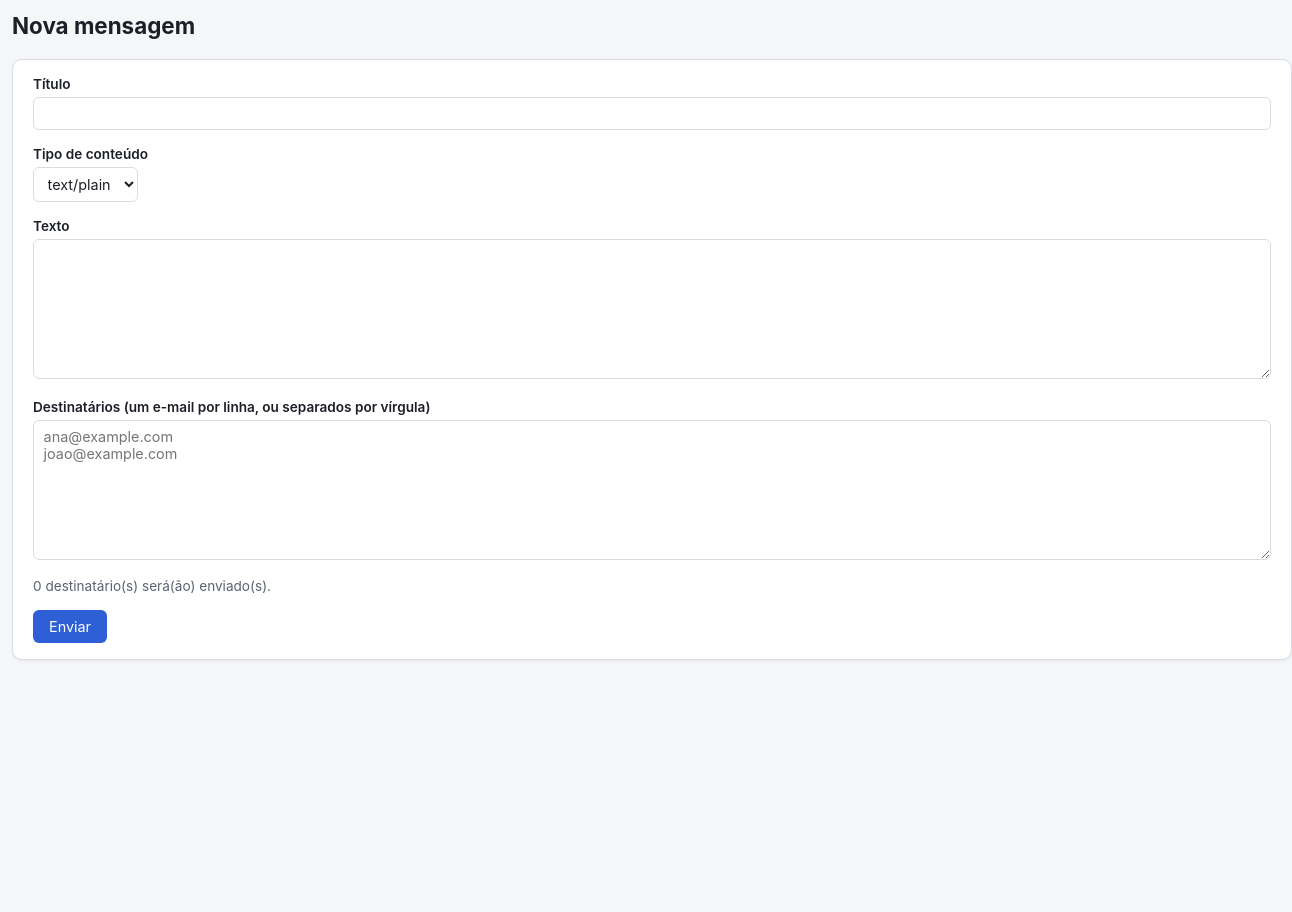
Test: Compose page › shows error banner and preserves form on API failure
The image size is (1292, 912).
Type "Test" into the field labelled "Título" at coordinates (652, 114), box x1=33 y1=97 x2=1271 y2=130
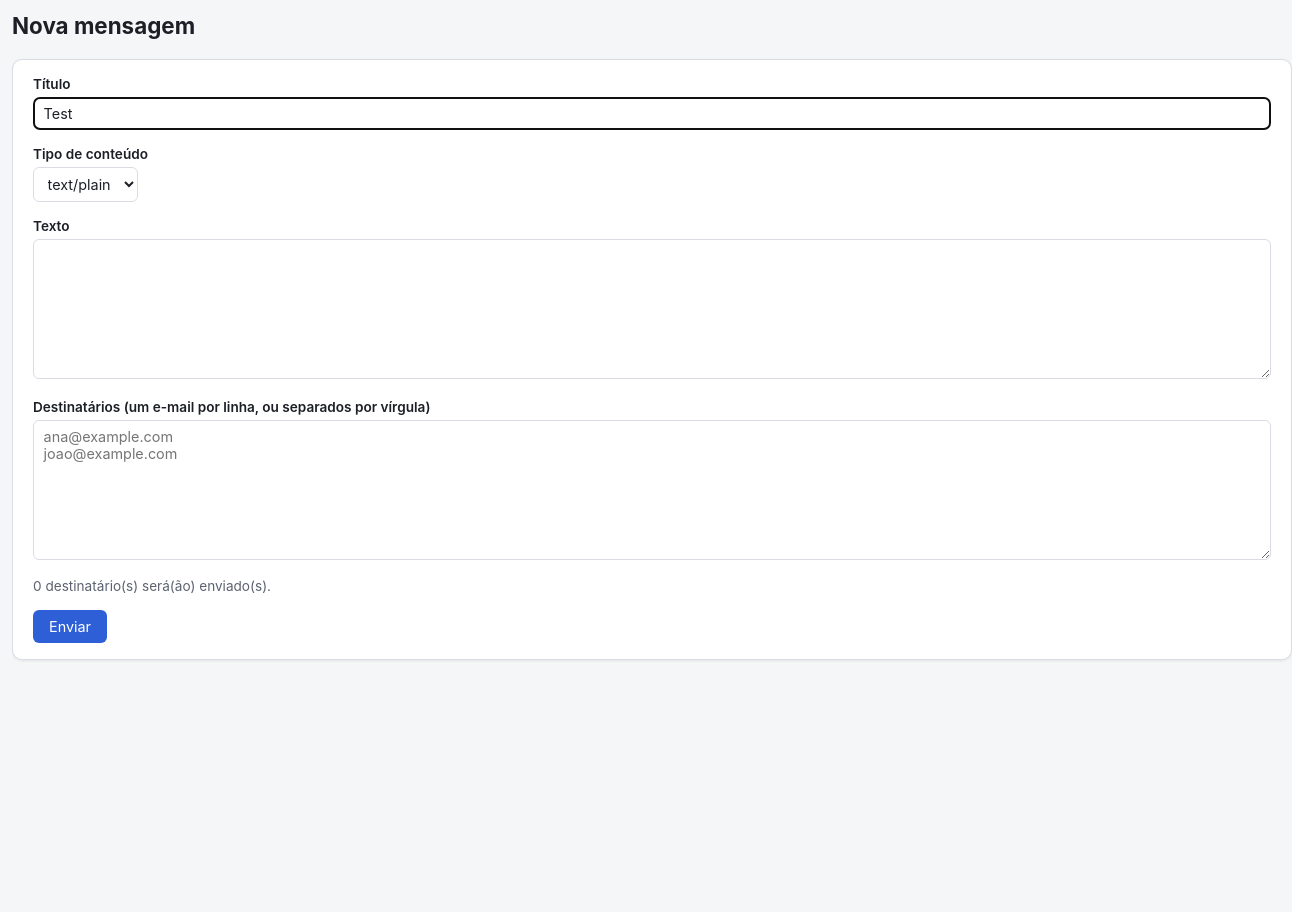
Type "Body" into the text box labelled "Texto" at coordinates (652, 309), box x1=33 y1=239 x2=1271 y2=379
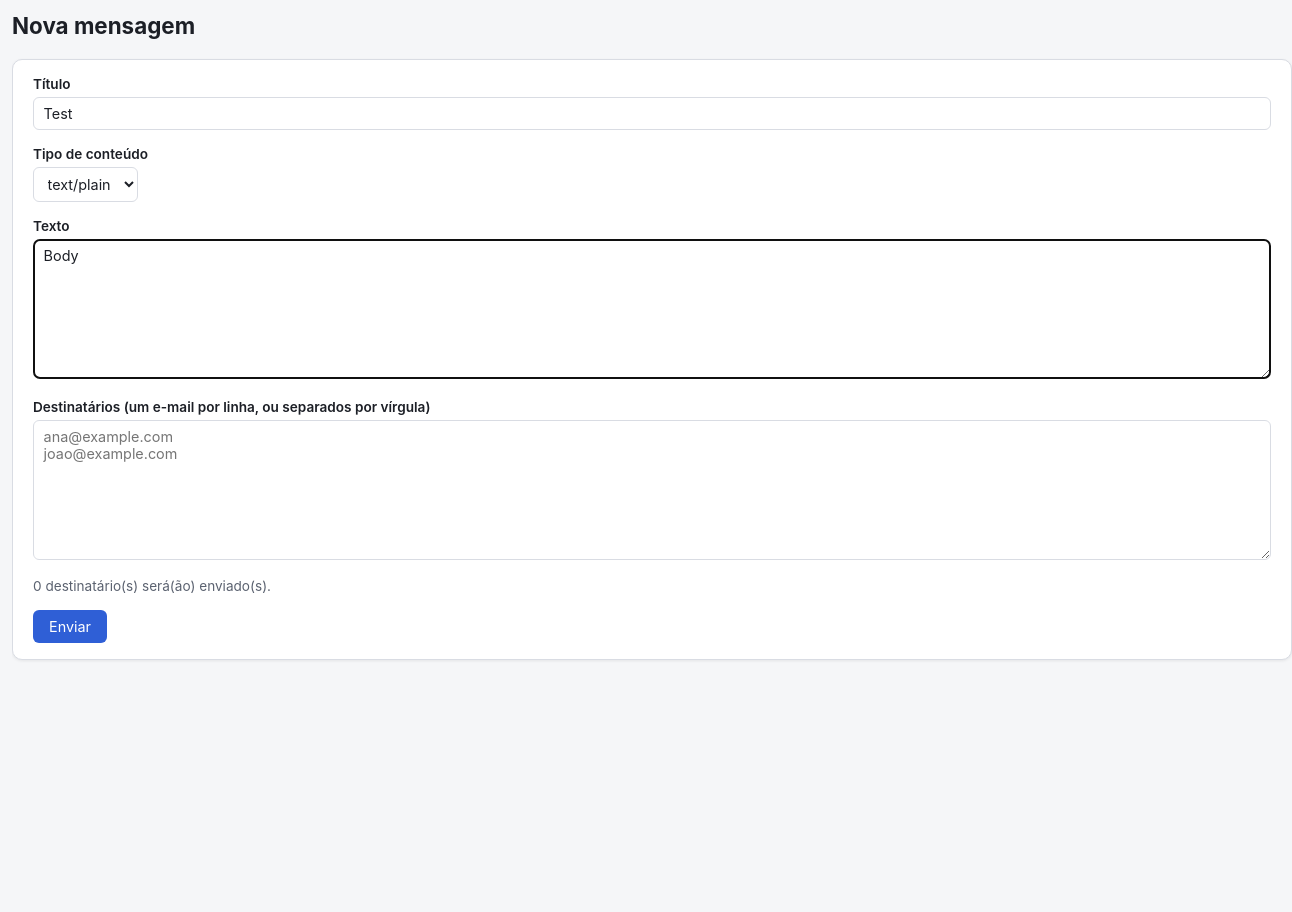
Type "alice@example.com" into the text box labelled "Destinatários" at coordinates (652, 490), box x1=33 y1=420 x2=1271 y2=560
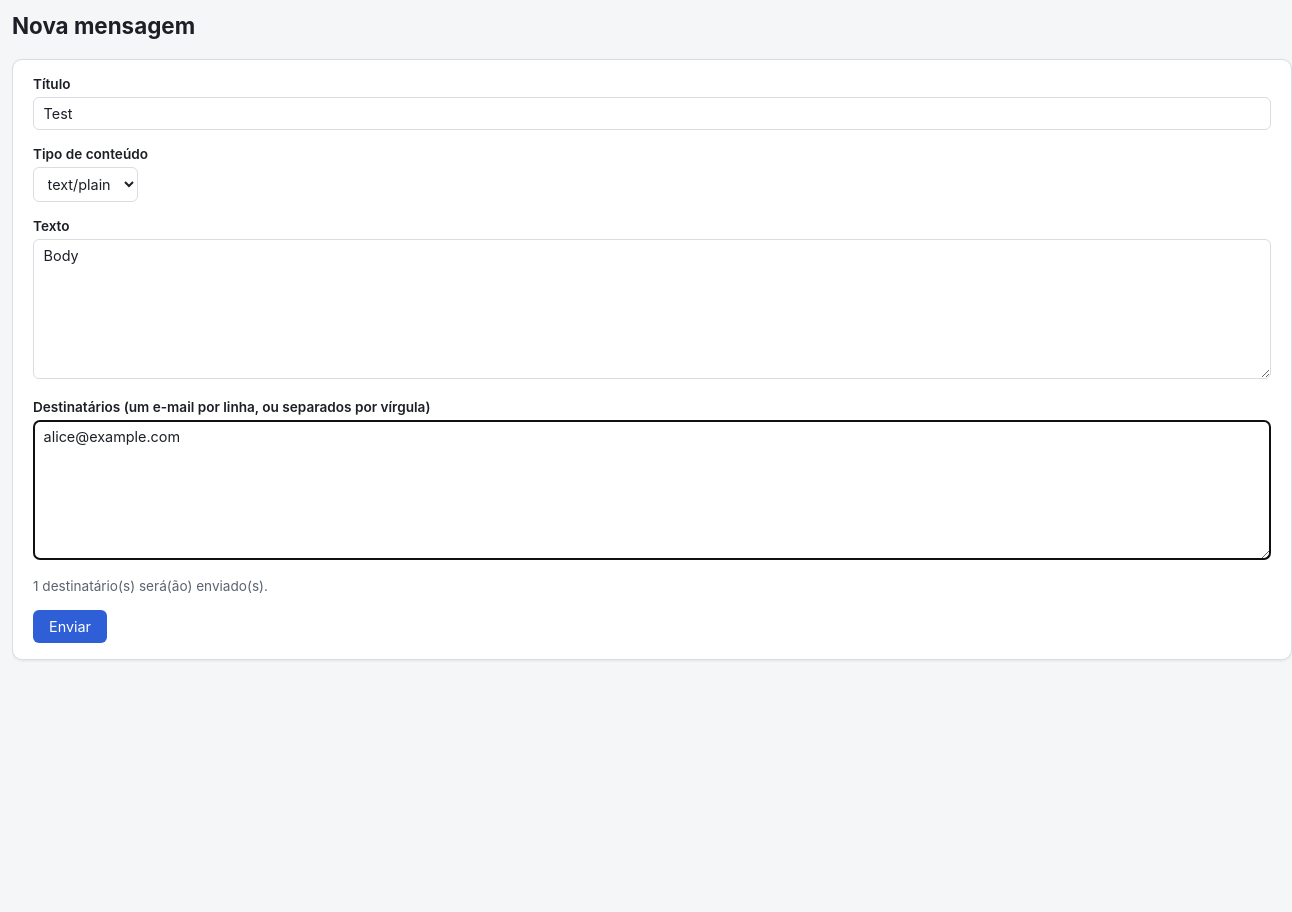
Click the button "Enviar" at coordinates (70, 626), box x1=33 y1=610 x2=107 y2=642
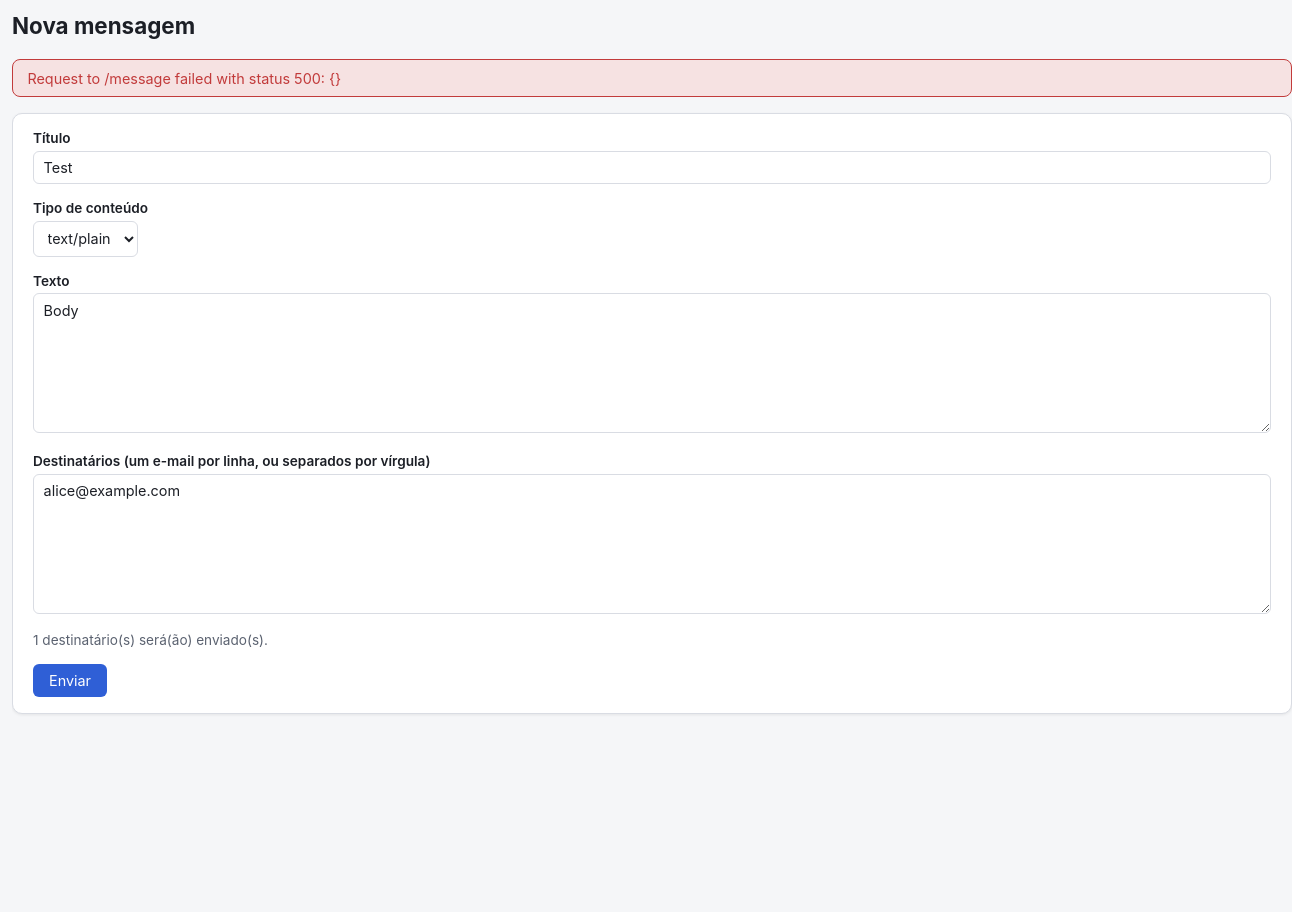
Result: the text "Request to /message failed with status 500: {}" is shown at x1=12 y1=59 x2=1291 y2=97
